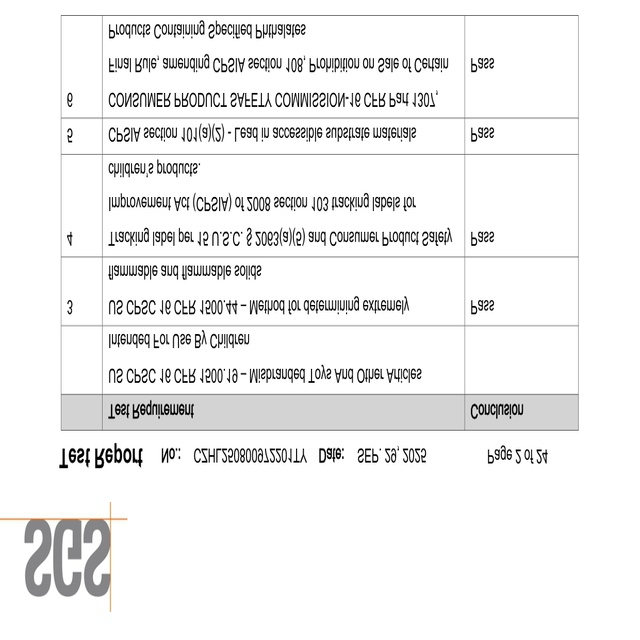sgs: (24, 519, 111, 597)
